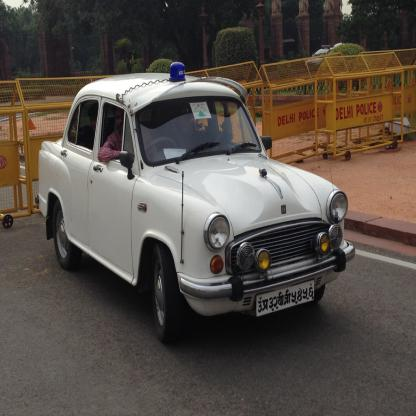Car: (35, 62, 356, 342), (305, 45, 336, 67)
